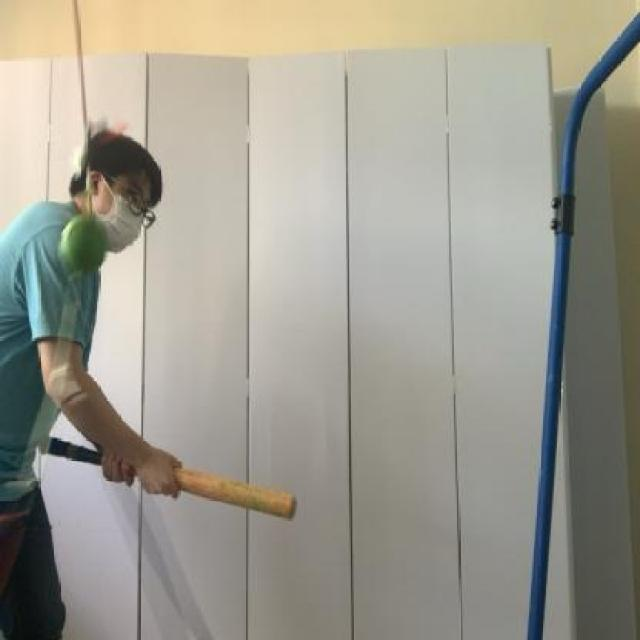baseball: (52, 204, 116, 276)
